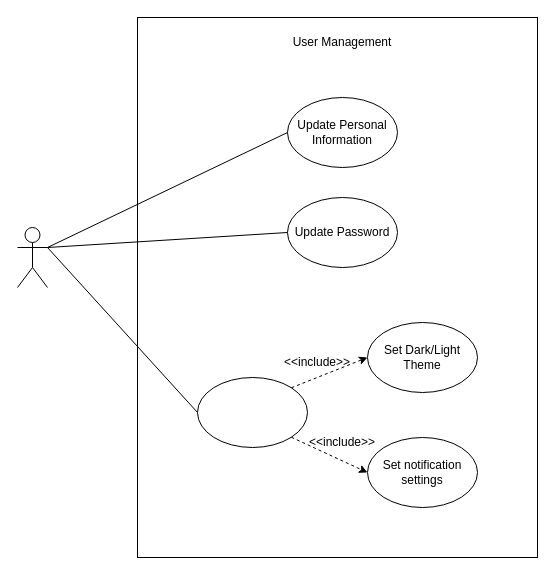
Some shapes in this 555 by 575 pixel diagram are drawn without their labels. The centre of each missing label's shape, as x and y in pixels:
"Set Personal Preferences" goes at [252,412].
"User" goes at [32,257].
